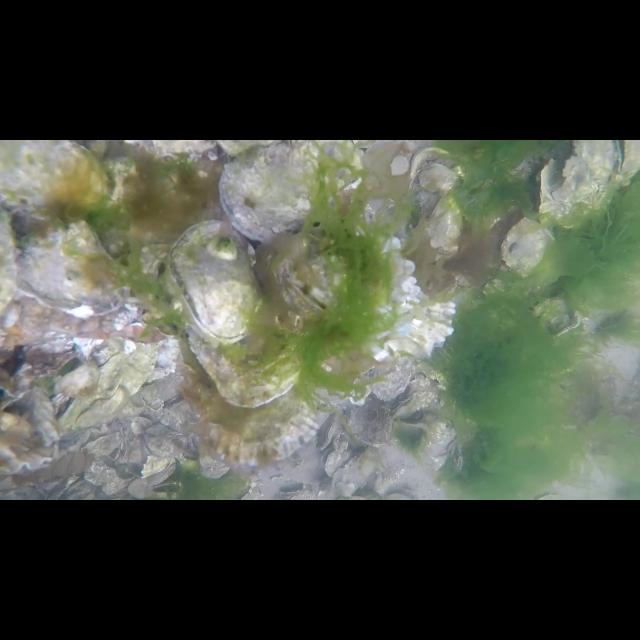Oyster-Closed: (278, 235, 457, 363), (194, 352, 318, 464), (188, 301, 308, 409), (14, 220, 130, 316), (57, 345, 156, 427), (0, 140, 110, 212), (538, 140, 614, 218), (342, 386, 392, 446), (408, 145, 466, 189), (424, 191, 462, 257), (502, 222, 550, 274), (0, 430, 52, 474), (332, 452, 380, 496), (371, 356, 413, 400), (200, 439, 232, 479), (318, 408, 340, 452)
Oyster-Open: (217, 140, 363, 242), (168, 220, 262, 346), (615, 140, 640, 183), (321, 447, 354, 478), (392, 392, 424, 418), (398, 411, 428, 432)
